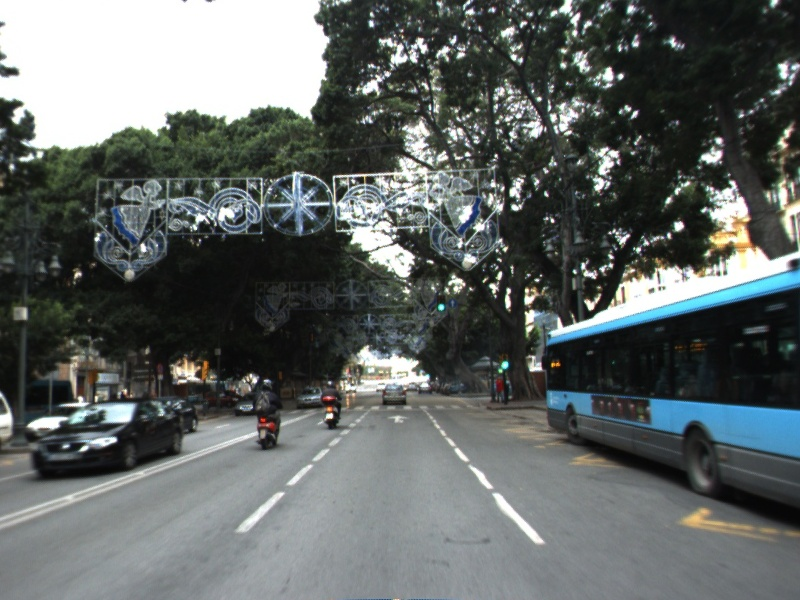STRAIGHT: (385, 413, 412, 425)
